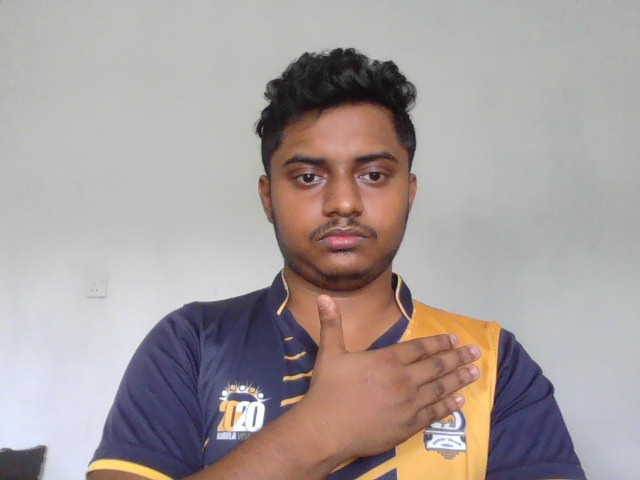Please: (307, 289, 486, 465)
